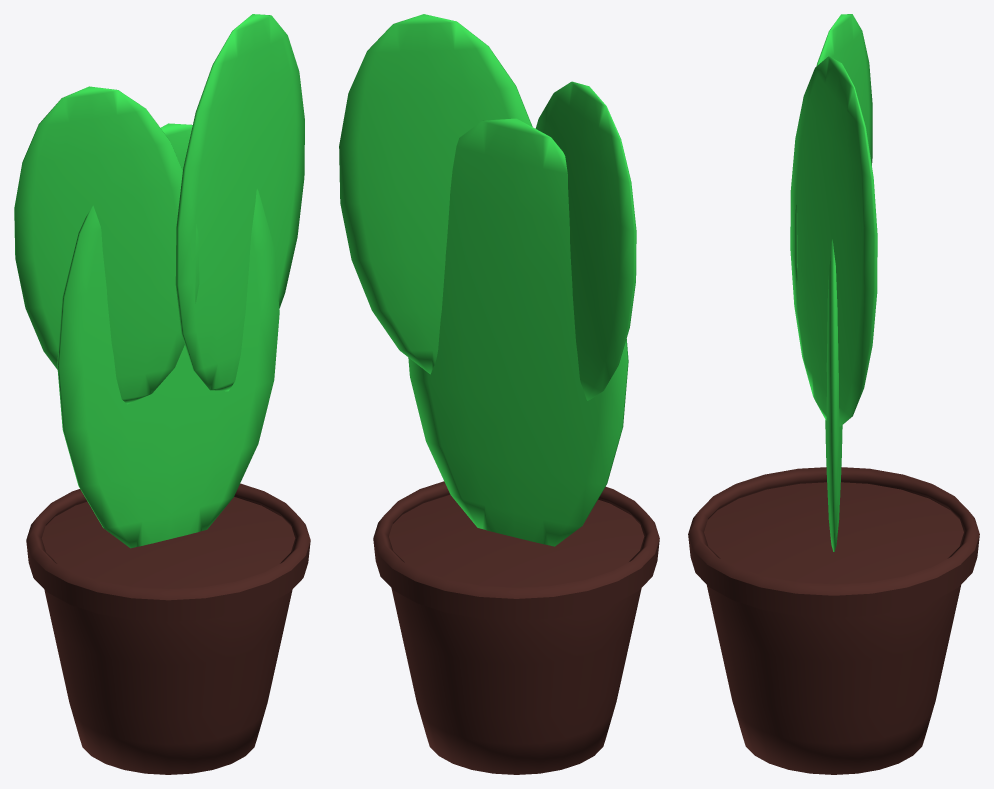
Rendered from Plante03_low.fbx.
3 renders of one model, left to right at view 1: azimuth 30°, elevation 25°; view 2: azimuth 150°, elevation 25°; view 3: azimuth 270°, elevation 25°, orthographic. The views are drawn at different scales.
Visible parts, largest first — view 1: 03_Plante, 03_Pot, 03_Terre; view 2: 03_Plante, 03_Pot, 03_Terre; view 3: 03_Pot, 03_Plante, 03_Terre.
Part boxes in pixels (x1,y1,x2,y2): 03_Plante: [14, 14, 304, 548]; 03_Pot: [26, 483, 310, 774]; 03_Terre: [41, 497, 295, 589]; 03_Plante: [339, 14, 636, 546]; 03_Pot: [373, 481, 659, 774]; 03_Terre: [389, 494, 644, 587]; 03_Pot: [688, 467, 979, 774]; 03_Plante: [790, 14, 877, 551]; 03_Terre: [704, 482, 963, 584].
Bounding box in the file's own units: 35.24 × 80.44 × 29.67.
